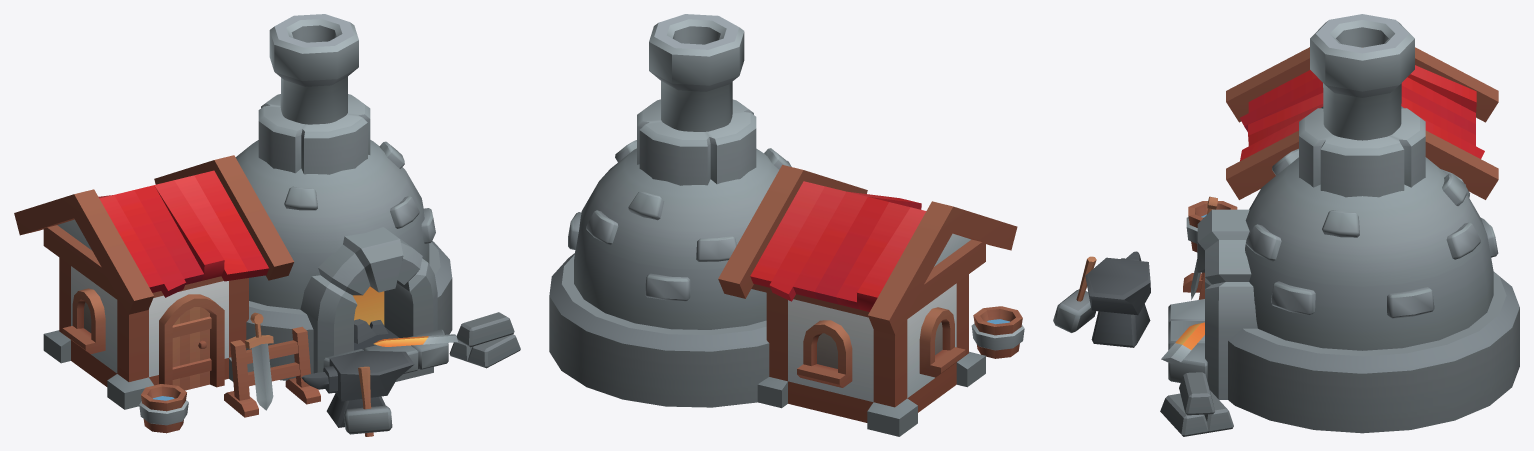
File: kk_blacksmith_v1.glb
3 views of the same model, side by side, from view 1: azimuth 30°, elevation 25°; view 2: azimuth 150°, elevation 25°; view 3: azimuth 270°, elevation 25° (orthographic). The views are drawn at different scales.
Visible parts, largest first — view 1: building_blacksmith_red; view 2: building_blacksmith_red; view 3: building_blacksmith_red.
Part boxes in pixels (x1,y1,x2,y2): building_blacksmith_red: [14, 14, 520, 436]; building_blacksmith_red: [549, 14, 1024, 436]; building_blacksmith_red: [1053, 14, 1519, 436].
Bounding box in the file's own units: 1.29 × 0.9851 × 1.25.
1 material, 1 textured.
